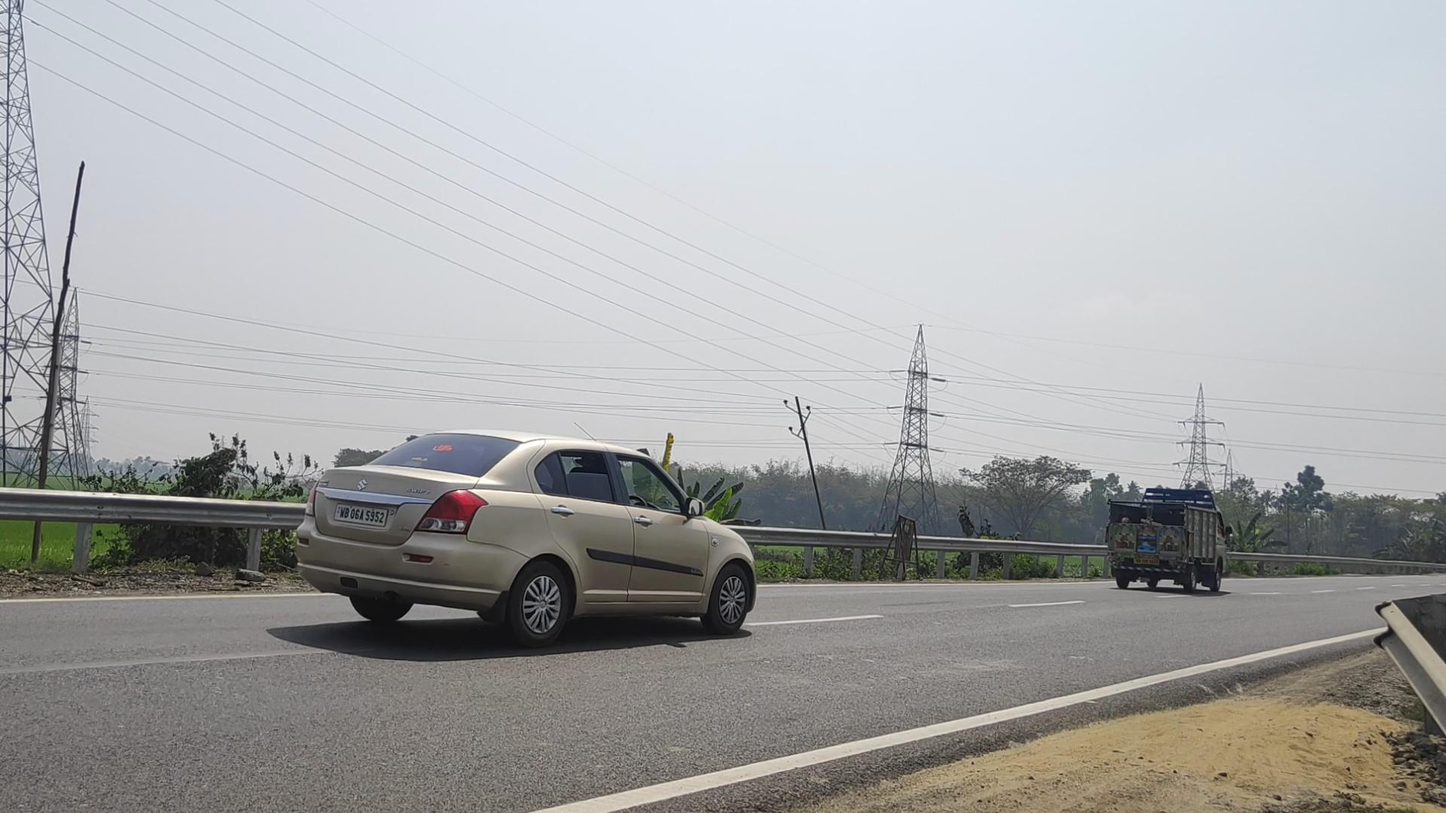car: (294, 428, 757, 650)
van: (1105, 488, 1234, 595)
